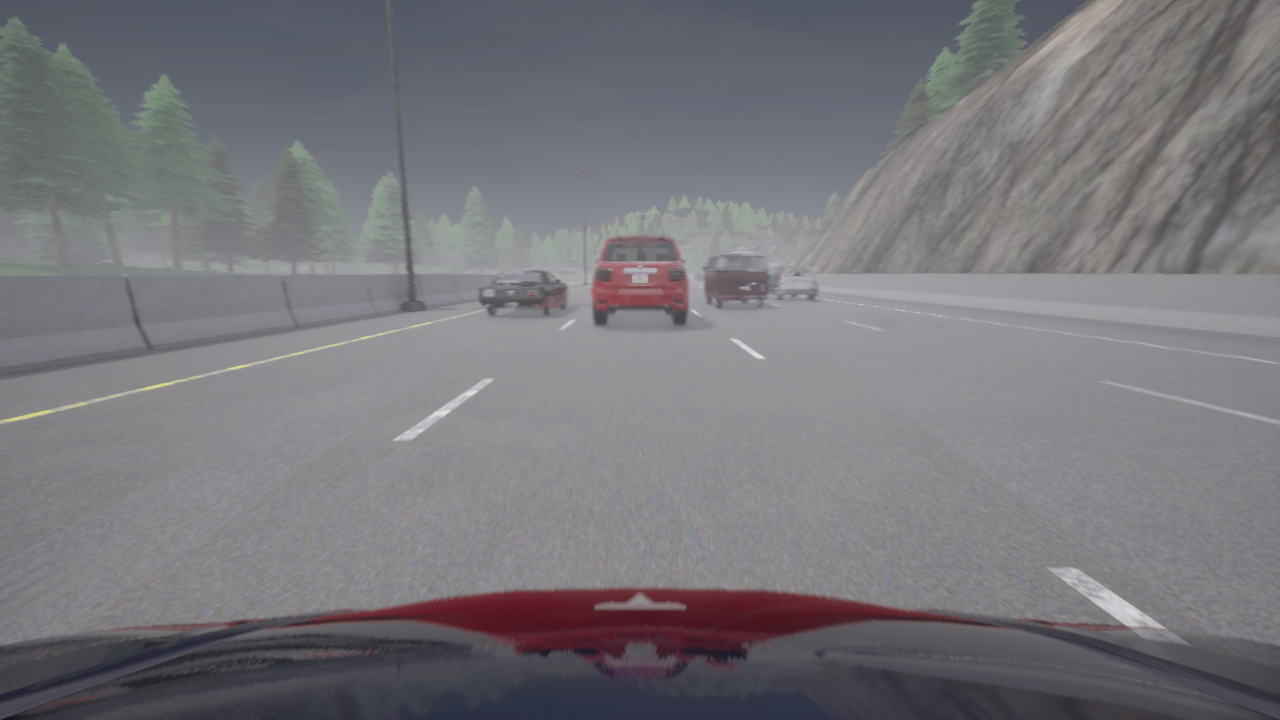cyclist: (0, 588, 1279, 719), (592, 236, 687, 325), (477, 271, 566, 315), (703, 252, 768, 308), (768, 265, 816, 300), (698, 272, 704, 280), (695, 272, 701, 279)
